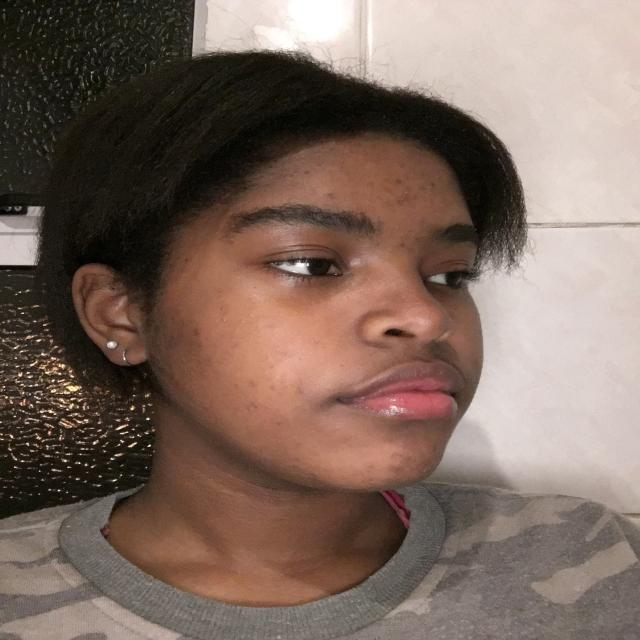Acne: (348, 470, 374, 488), (323, 188, 340, 200), (246, 402, 261, 414), (186, 370, 202, 380), (290, 457, 304, 468), (391, 176, 406, 186), (360, 179, 378, 187), (388, 452, 412, 458), (227, 235, 240, 246), (398, 242, 413, 251), (392, 198, 408, 206), (300, 170, 315, 178), (294, 384, 306, 394), (389, 465, 406, 472), (416, 170, 430, 178), (268, 382, 279, 392), (268, 361, 279, 371), (246, 312, 258, 320), (429, 182, 440, 190), (193, 327, 204, 335), (400, 191, 414, 197), (230, 383, 240, 391), (421, 466, 429, 476), (249, 380, 258, 388), (215, 306, 228, 311), (252, 284, 259, 292), (275, 421, 282, 428), (220, 318, 227, 324)
